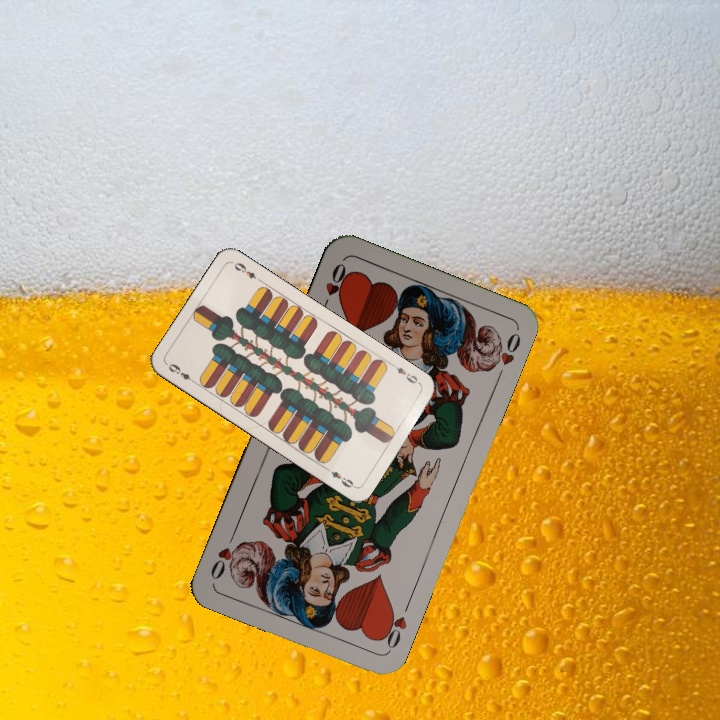E9: (388, 360, 424, 388), (164, 359, 199, 387)
HO: (376, 597, 413, 653), (317, 259, 352, 314)
